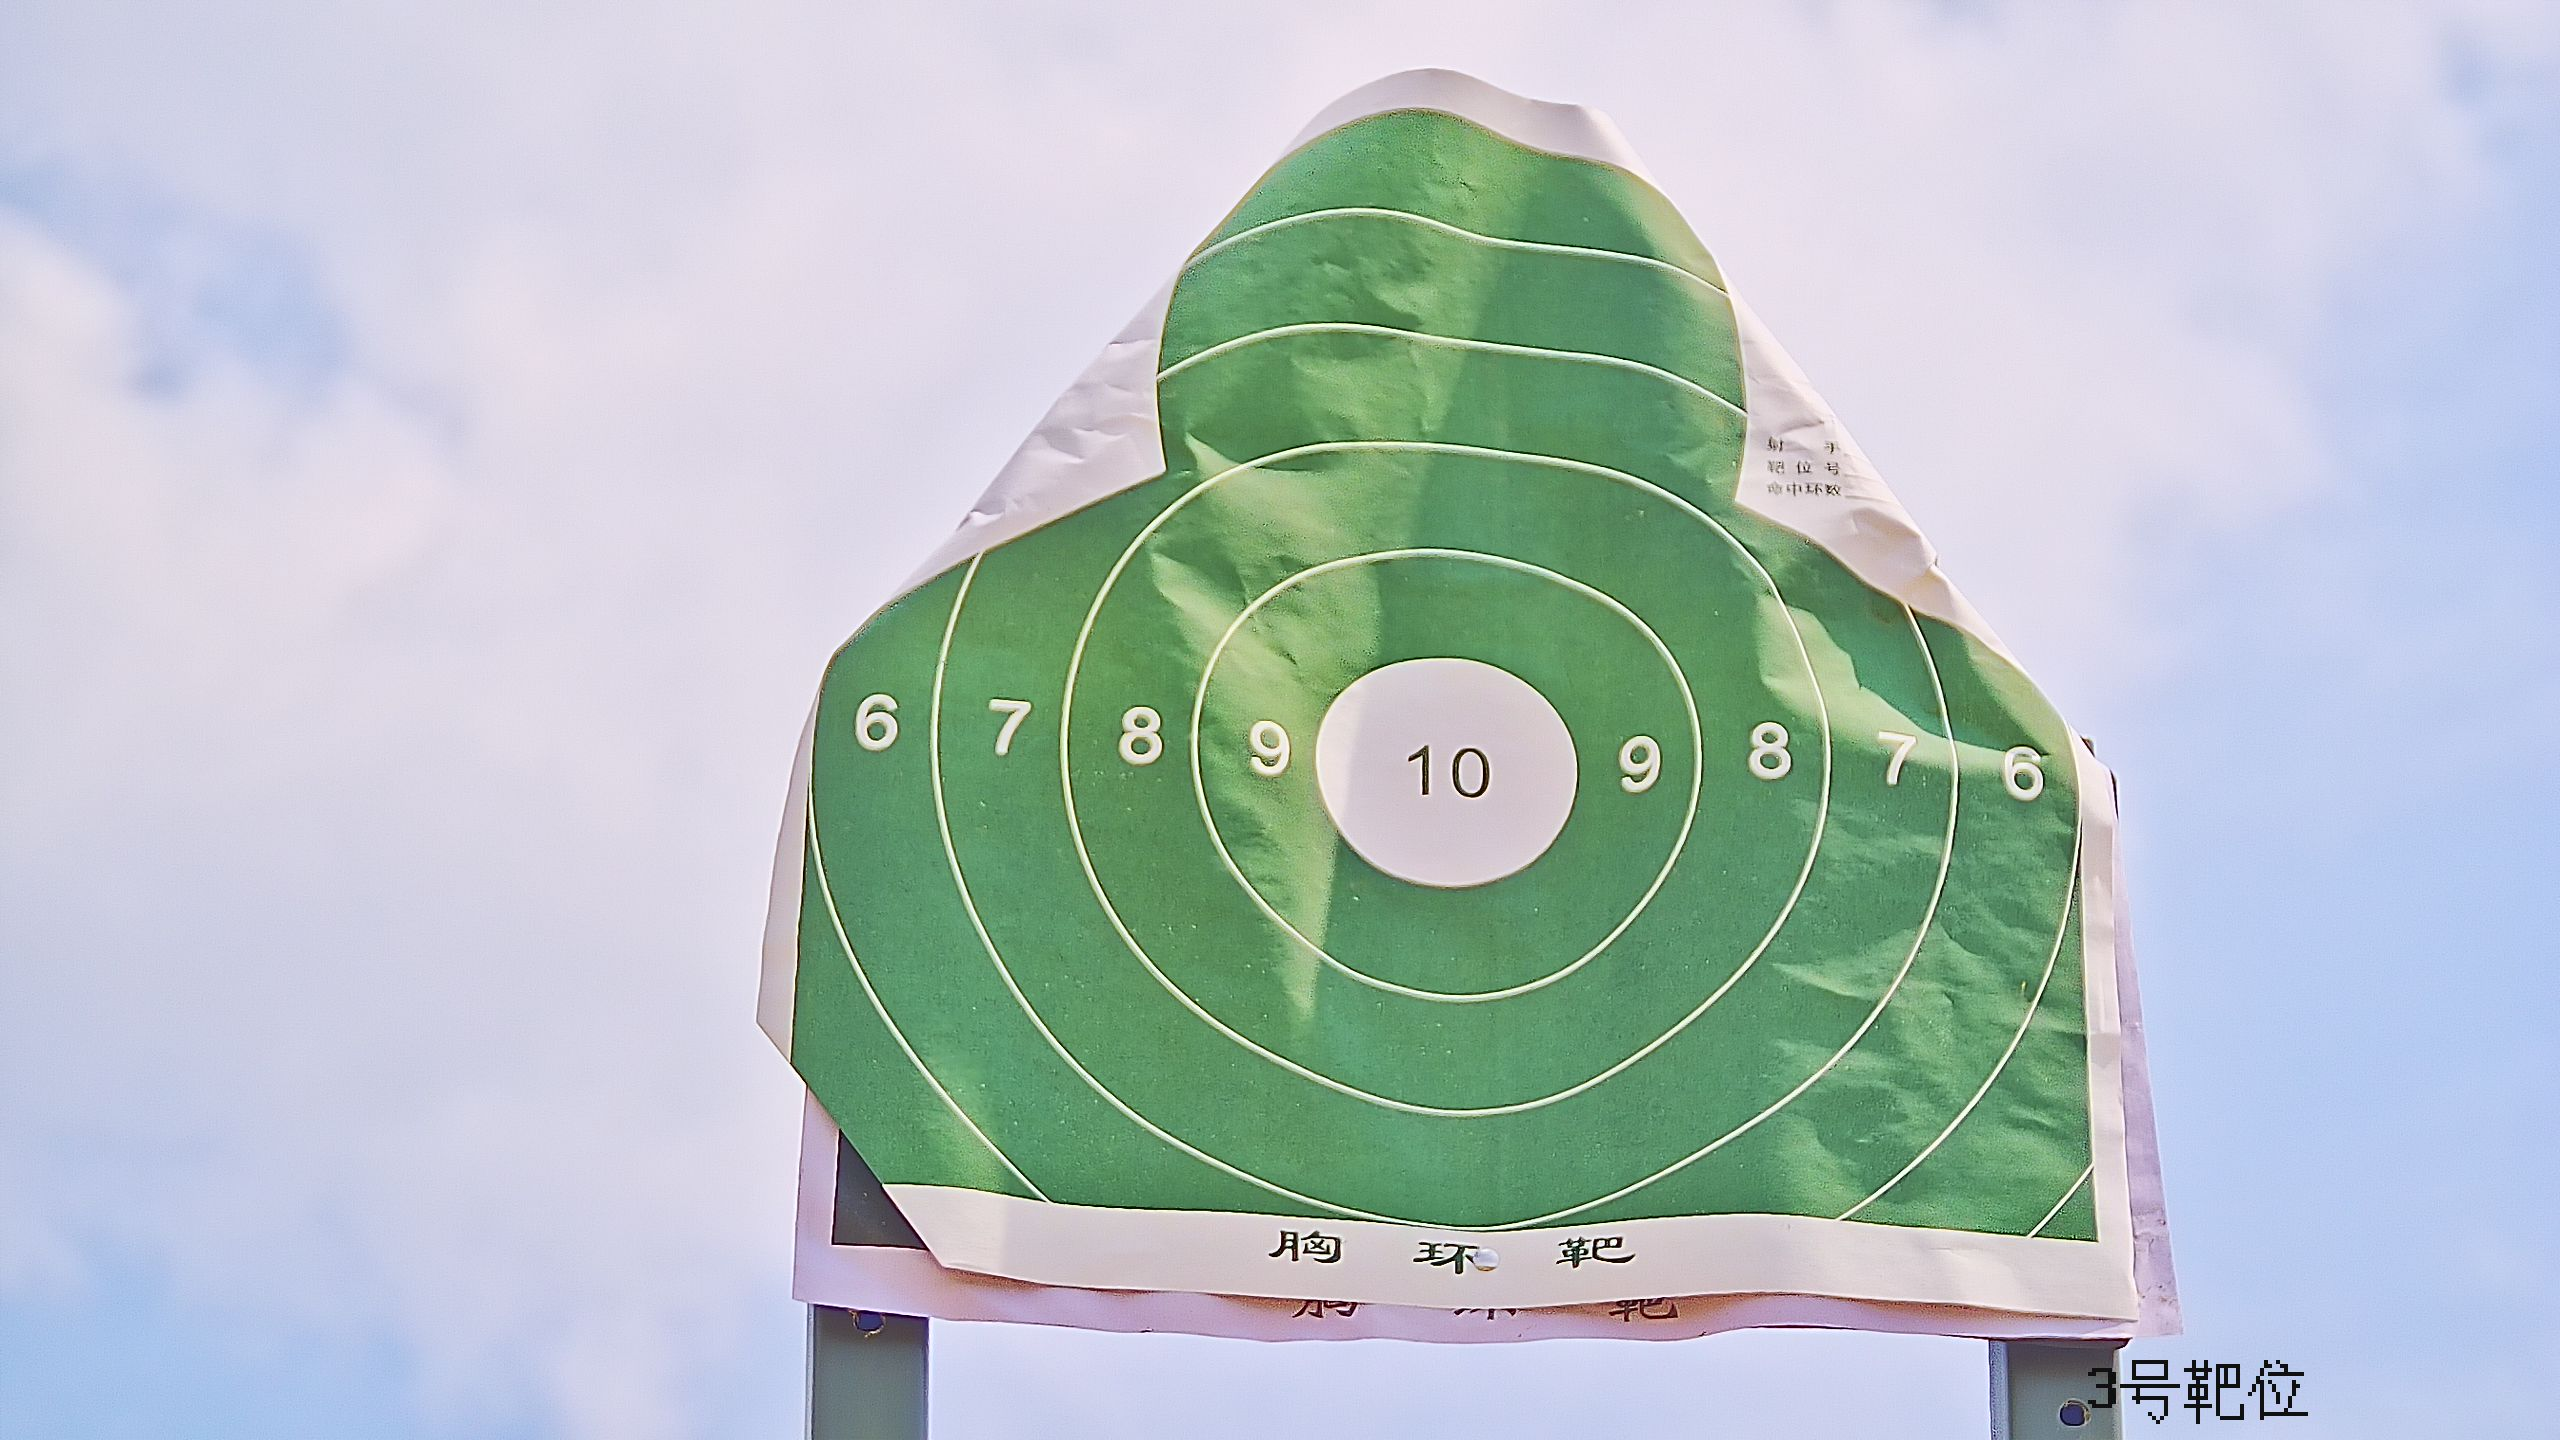kernel: (1438, 775, 1444, 777)
target: (798, 111, 2103, 1255)
ten: (1315, 658, 1577, 888)
